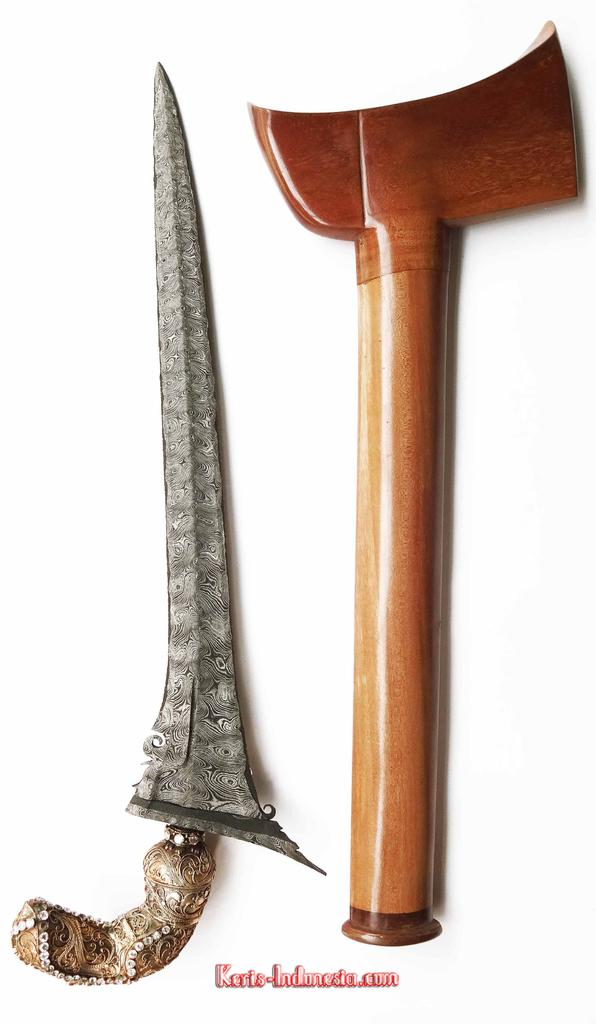Sword: (13, 63, 326, 983)
